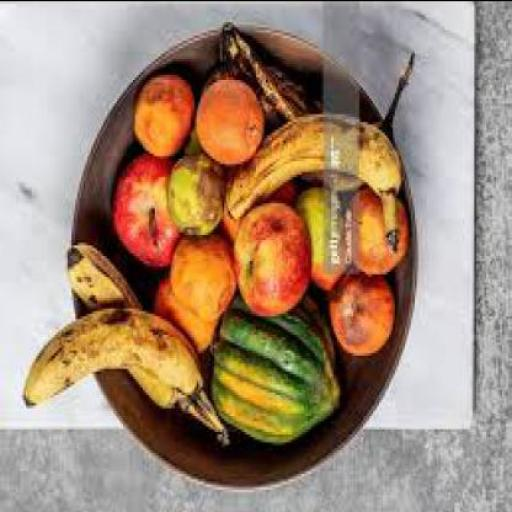biodegradable: (218, 26, 416, 199), (65, 250, 224, 436), (22, 310, 227, 444), (222, 116, 401, 254), (210, 299, 341, 447), (230, 205, 312, 321), (109, 154, 180, 268), (169, 237, 236, 325), (195, 82, 262, 168), (128, 79, 192, 162), (222, 168, 296, 239), (300, 189, 349, 295), (328, 276, 392, 357), (151, 278, 212, 355), (167, 148, 218, 238), (351, 187, 403, 275), (300, 168, 358, 191)
paper: (0, 1, 475, 436)
